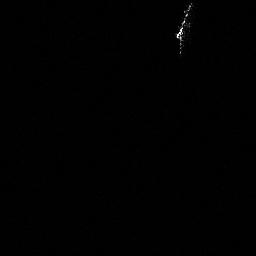ship: (175, 1, 194, 55)
